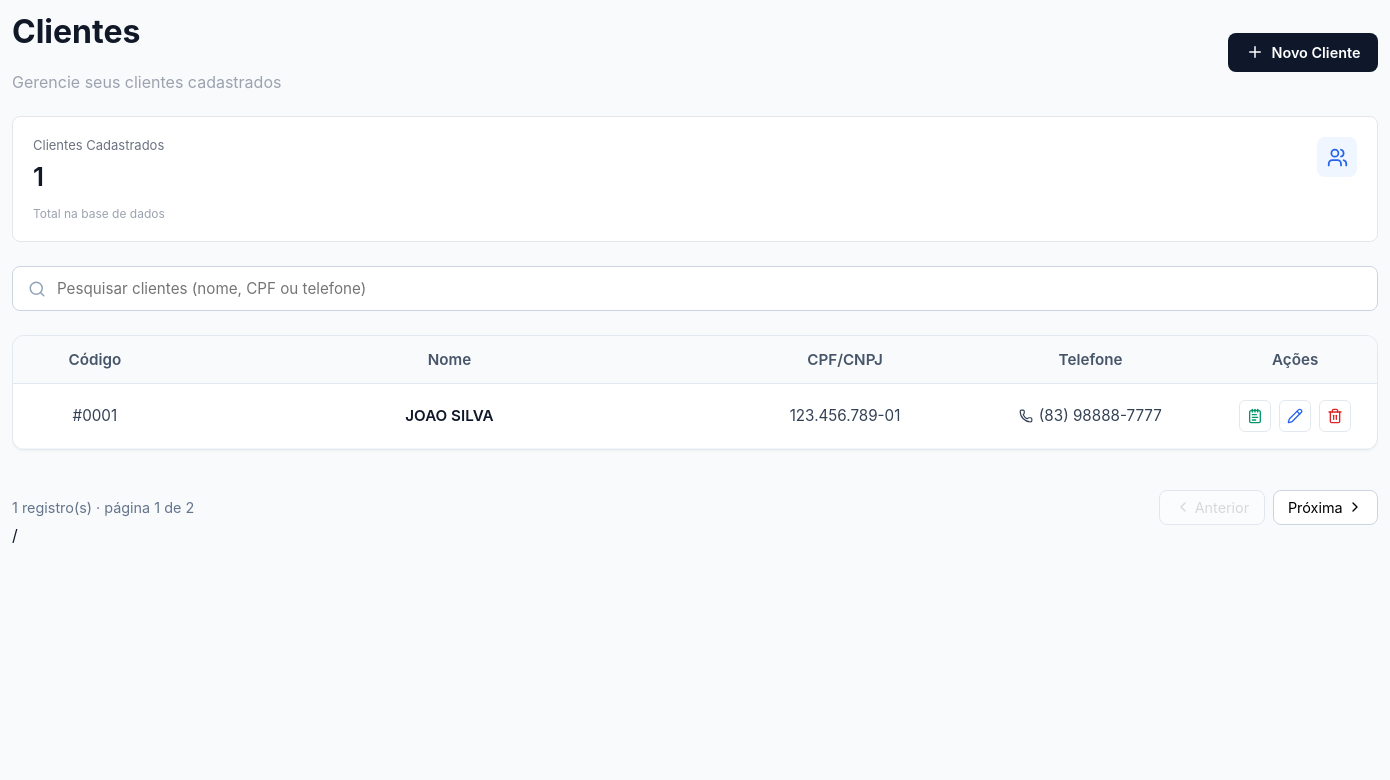
Página de Clientes › listagem › paginação pede a próxima página ao servidor
The image size is (1390, 780).
Expected: the text "JOAO SILVA" is shown, [405, 406, 494, 425]
Click the button "Próxima": (1325, 507) [1272, 490, 1378, 525]
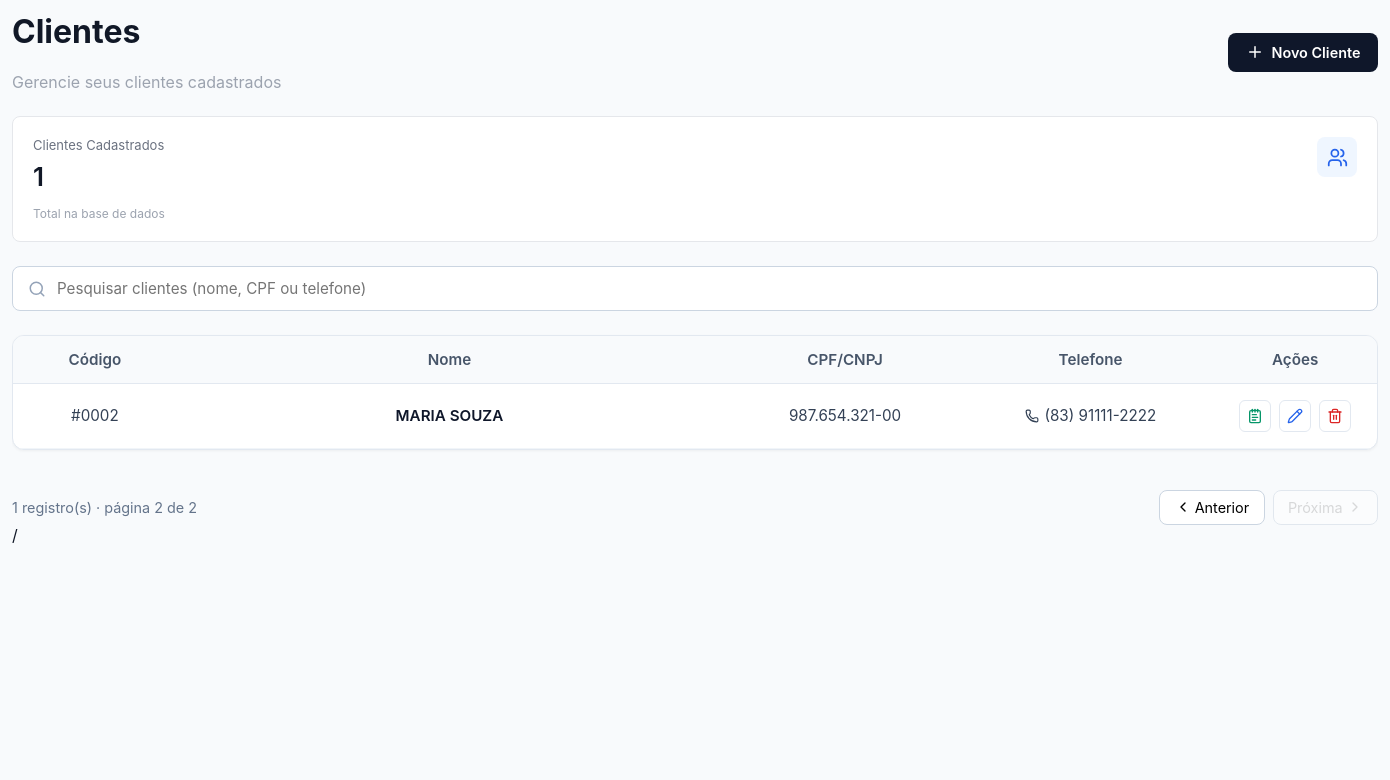
Result: the text "MARIA SOUZA" is shown at [396, 406, 503, 425]
Result: the text "JOAO SILVA" is gone
